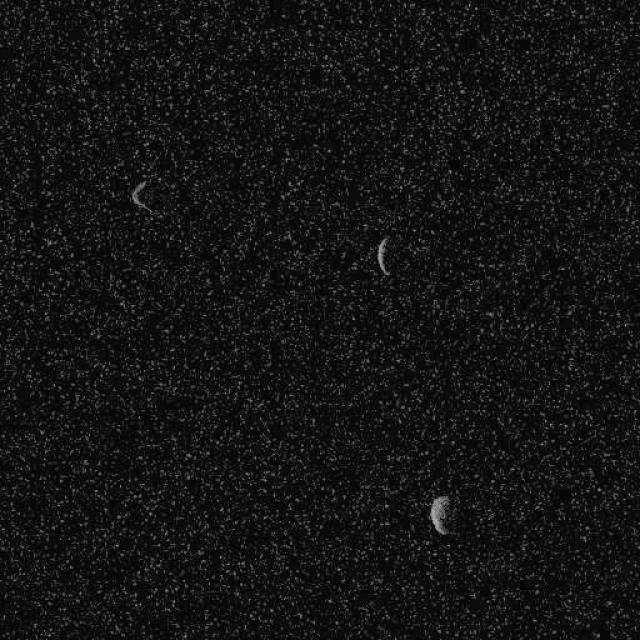D2: (129, 176, 155, 215), (428, 494, 452, 536), (375, 235, 393, 276)
